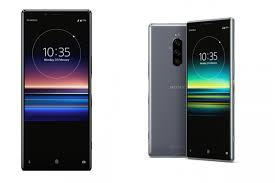sony: (19, 6, 96, 171), (184, 16, 233, 160), (147, 17, 185, 159)
